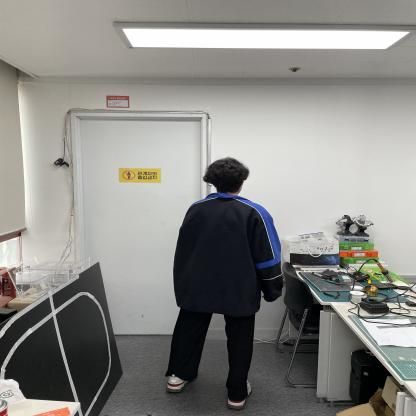normal: (170, 158, 283, 408)
